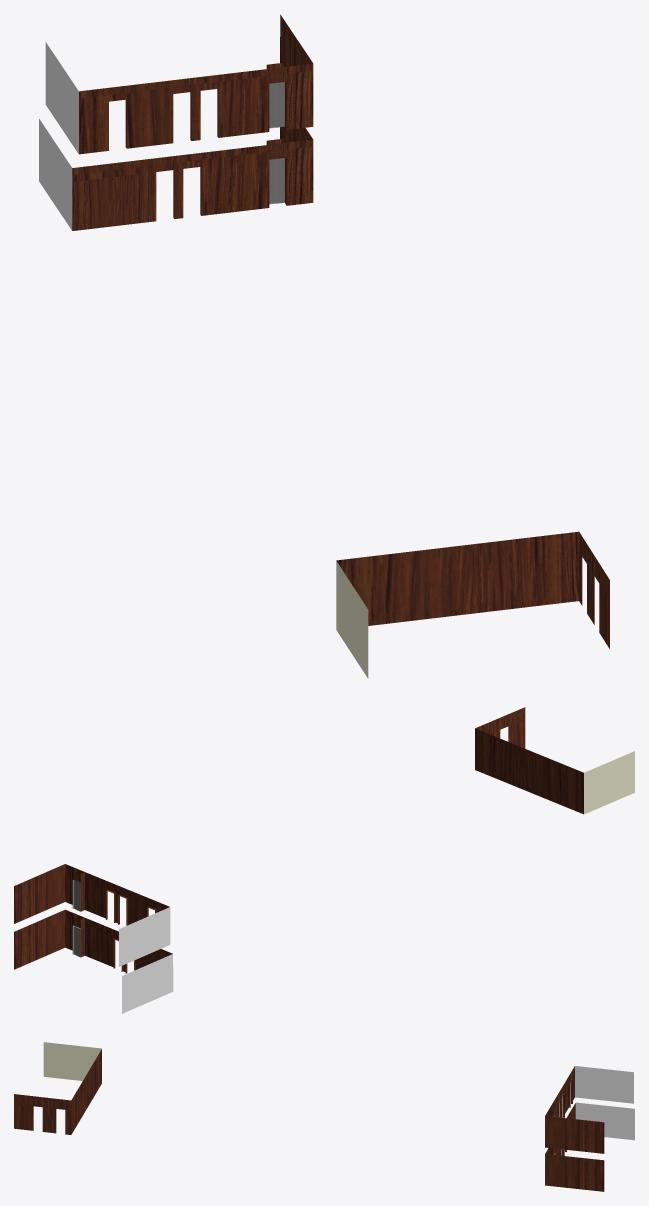
The model's file is banios.glb.
3 views of the same model, one above another, from view 1: azimuth 30°, elevation 25°; view 2: azimuth 150°, elevation 25°; view 3: azimuth 270°, elevation 25° (orthographic). The views are drawn at different scales.
Visible parts, largest first — view 1: aula base.034, aula base.015, aula base.019; view 2: aula base.034, aula base.019, aula base.015; view 3: aula base.019, aula base.034, aula base.015.
Boxes of the visible parts, box(x1,y1,x2,y2) form: aula base.034: box(336, 531, 609, 678); aula base.015: box(39, 119, 313, 230); aula base.019: box(45, 14, 313, 154); aula base.034: box(475, 707, 634, 814); aula base.019: box(14, 864, 170, 966); aula base.015: box(14, 909, 173, 1013); aula base.019: box(545, 1066, 633, 1153); aula base.034: box(14, 1042, 101, 1134); aula base.015: box(545, 1102, 634, 1191).
Bounding box in the file's own units: 125 × 35.51 × 285.
6 materials, 1 textured.
